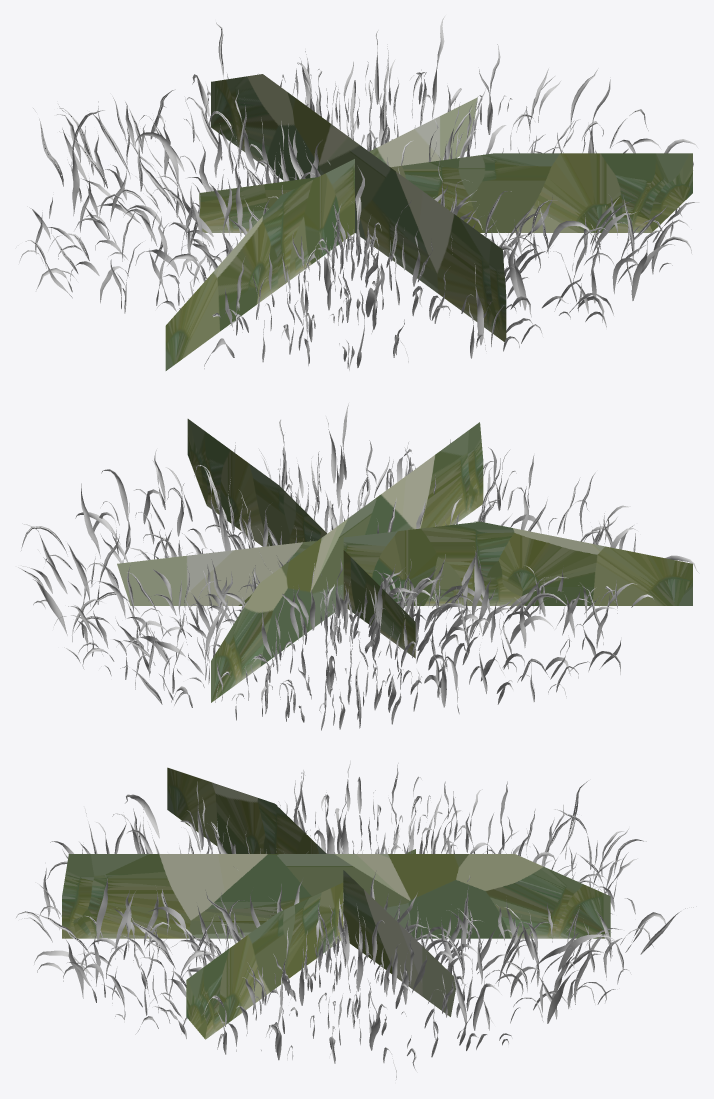
File: PW_Med_Grass_2.fbx
The picture shows the model from 3 angles, top to bottom: view 1: azimuth 30°, elevation 25°; view 2: azimuth 150°, elevation 25°; view 3: azimuth 270°, elevation 25°; orthographic projection. The views are drawn at different scales.
Visible parts, largest first — view 1: Billboard, LOD0; view 2: Billboard, LOD0; view 3: Billboard, LOD0.
Part boxes in pixels (x1,y1,x2,y2): Billboard: (165, 74, 692, 370); LOD0: (19, 15, 699, 370); Billboard: (117, 419, 692, 702); LOD0: (15, 403, 699, 730); Billboard: (62, 767, 610, 1039); LOD0: (16, 760, 696, 1080).
Size of what is drawn, in the model's own units: 67.85 by 10.19 by 68.58.
